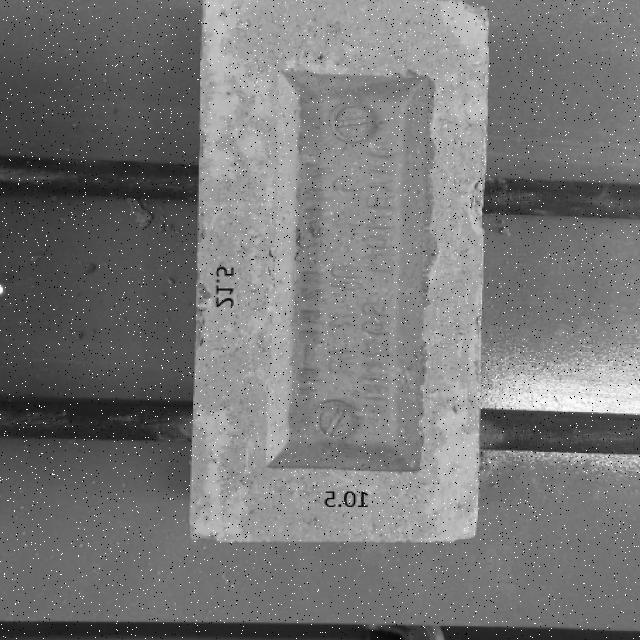bricks: (188, 0, 499, 561)
